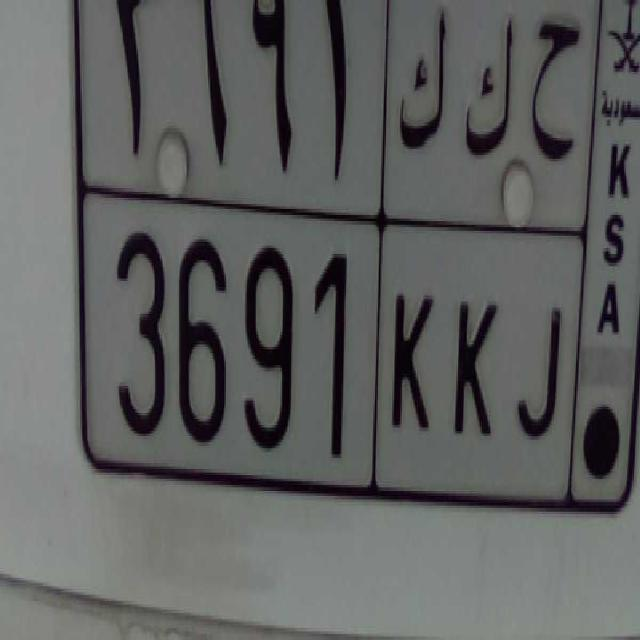license_plate: (87, 183, 572, 515)
